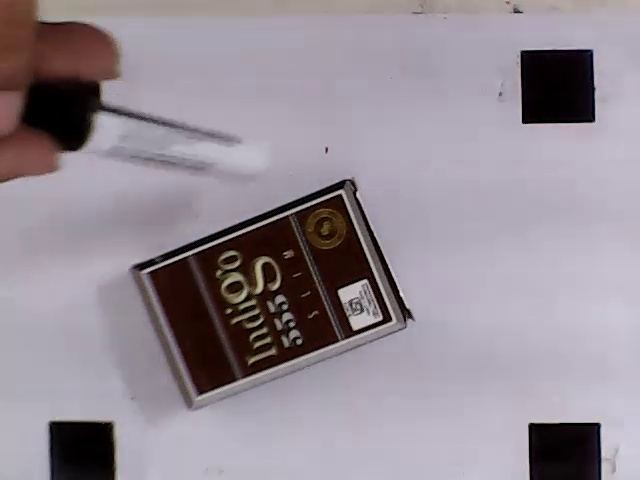BEX: (144, 195, 392, 394)
